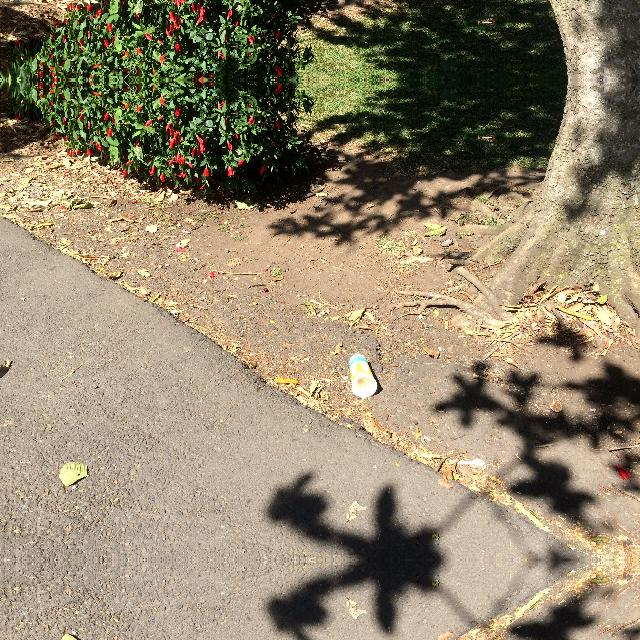Paper: (346, 352, 378, 400)
